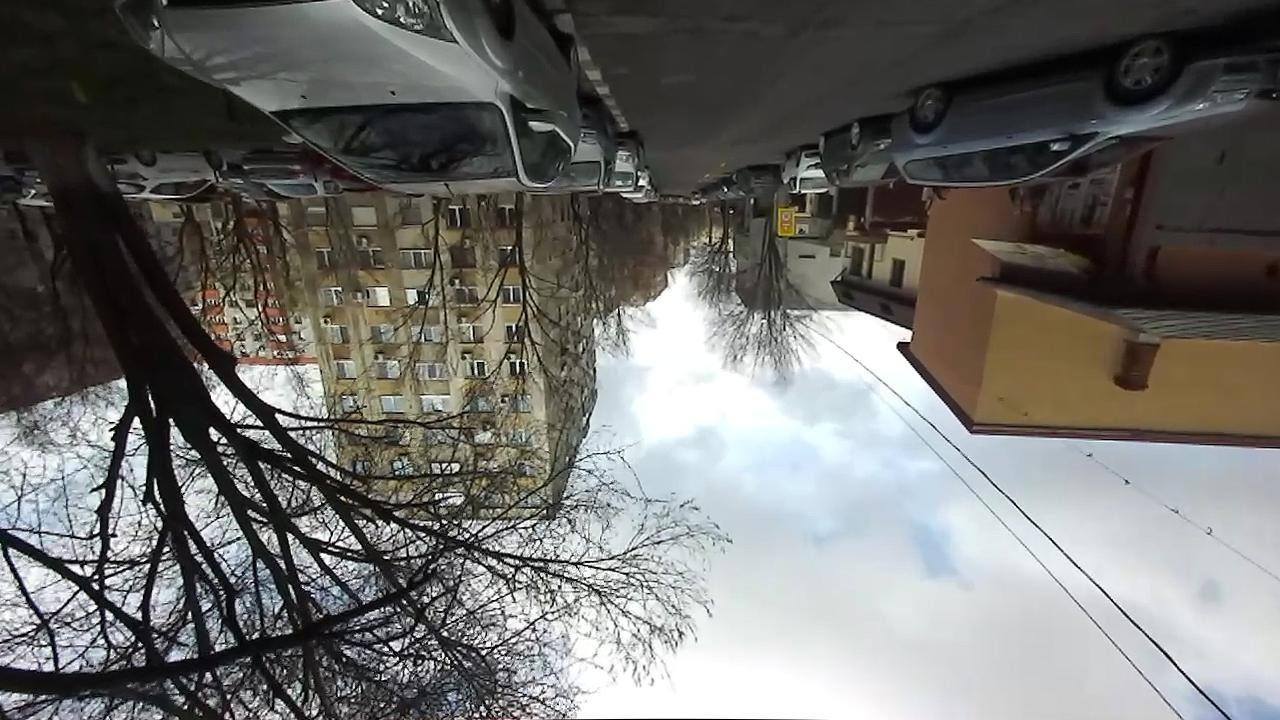pothole: (721, 9, 766, 29)
